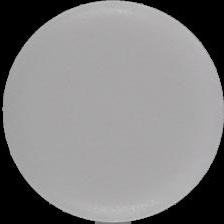68462-330: (0, 0, 224, 224)
